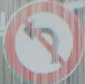Don't turn left: (5, 6, 75, 74)
